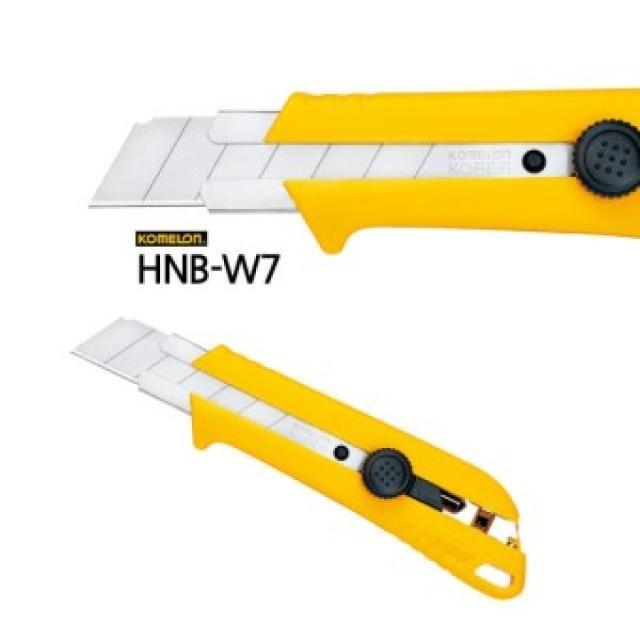cutter: (78, 304, 535, 601), (68, 73, 640, 272)
